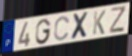4: (17, 20, 31, 48)
C: (53, 15, 71, 42)
G: (35, 18, 53, 45)
K: (92, 9, 107, 36)
X: (70, 11, 90, 41)
Z: (109, 5, 127, 34)
